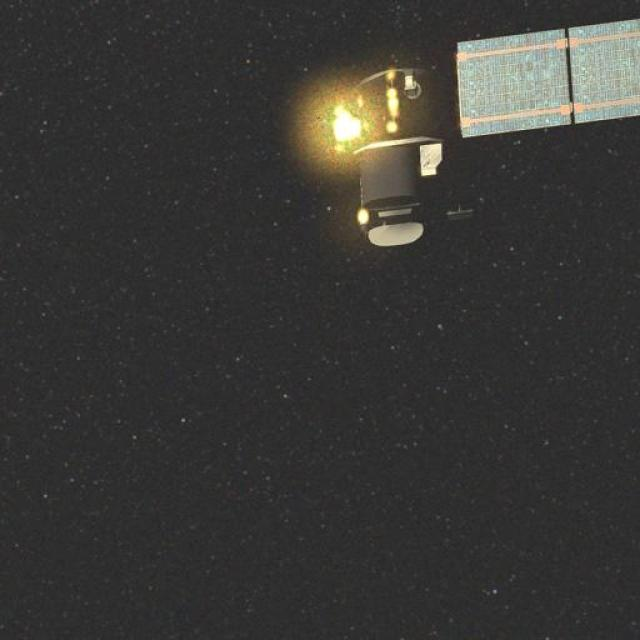earth_observation_sat_1: (298, 16, 638, 270)
